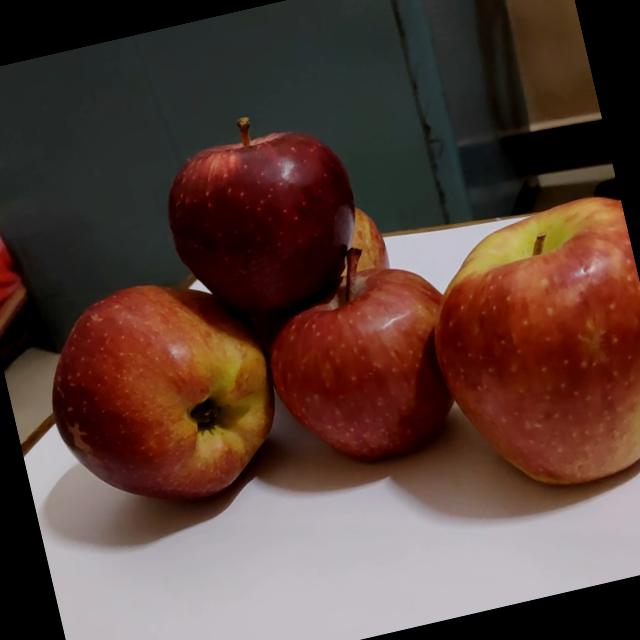apple: (22, 242, 312, 533), (412, 181, 640, 510), (246, 221, 486, 484), (146, 85, 382, 332), (308, 186, 399, 288)
